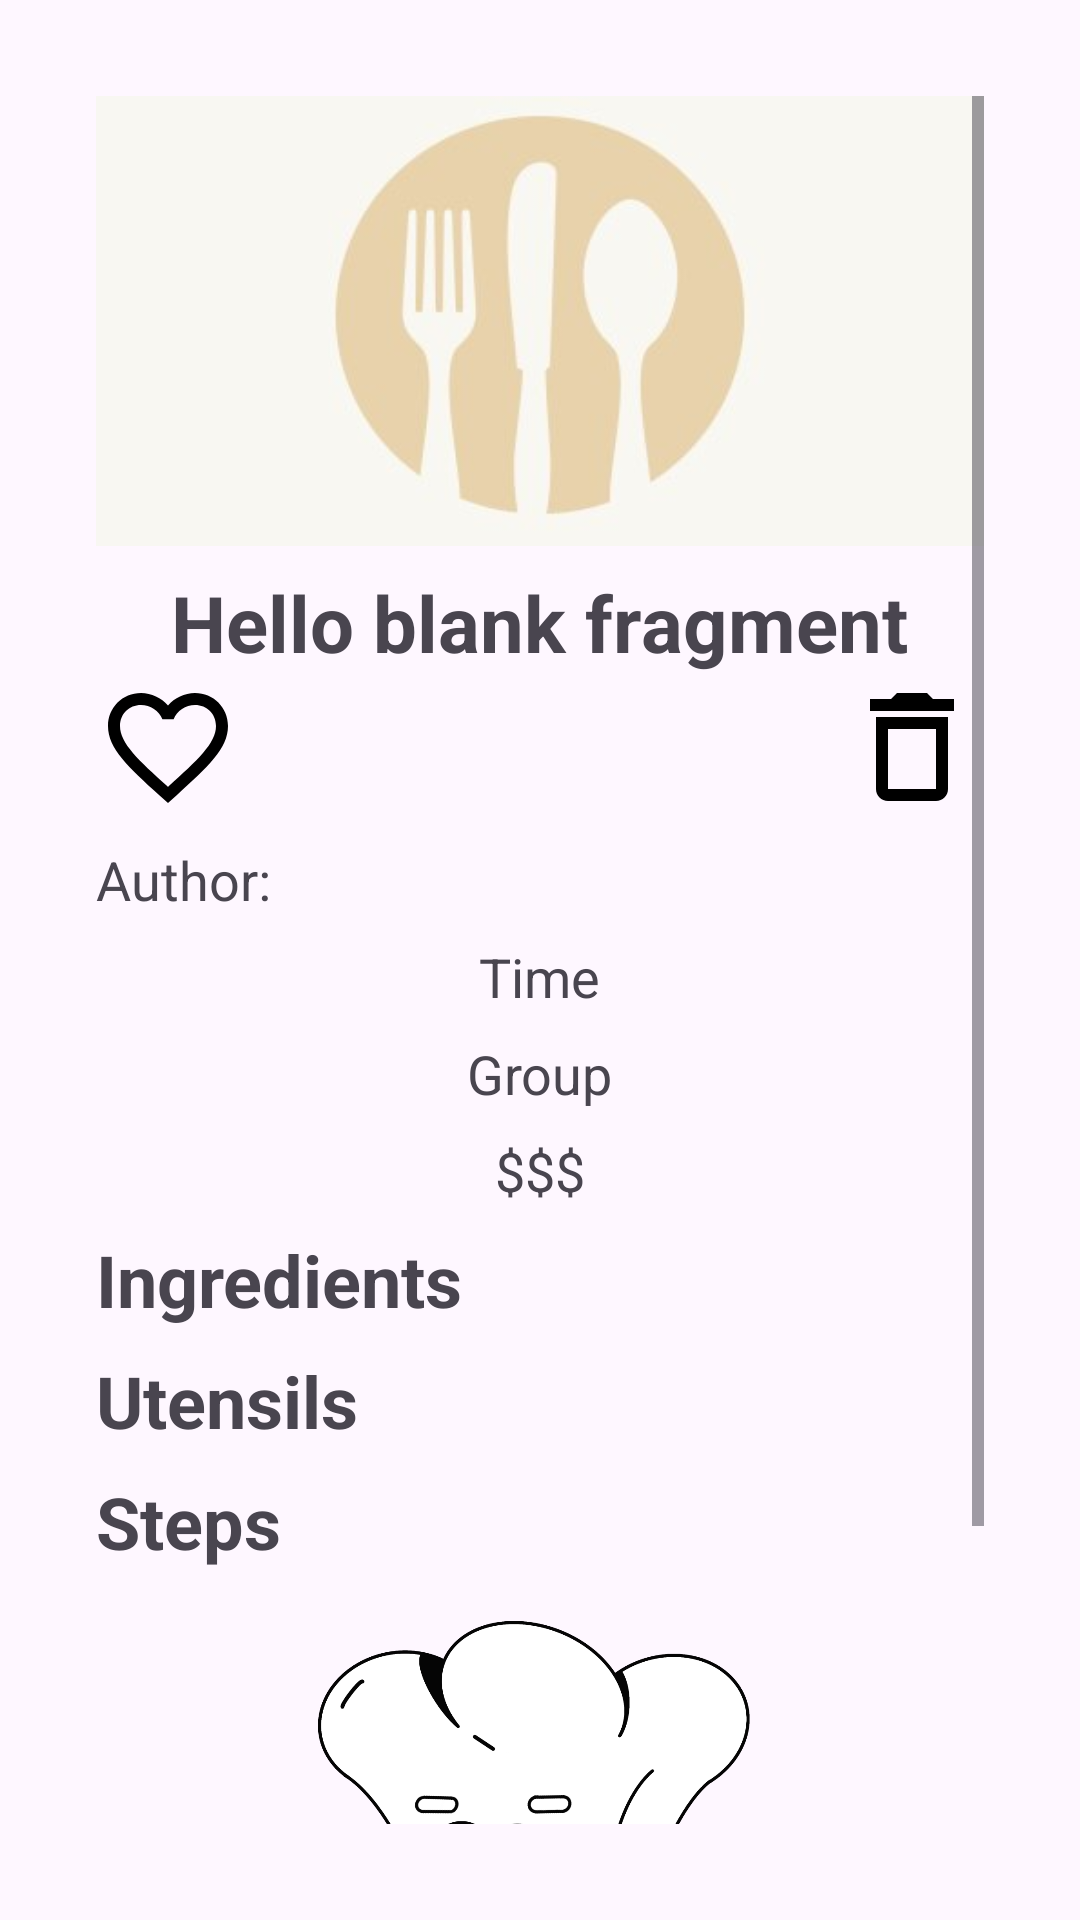

Locate icon controls on the screen. Image size 1080px×1920px, boxes as bbox(x1, y1, x2, y2).
delete: bbox(870, 693, 954, 801)
favorite border: bbox(108, 693, 228, 803)
